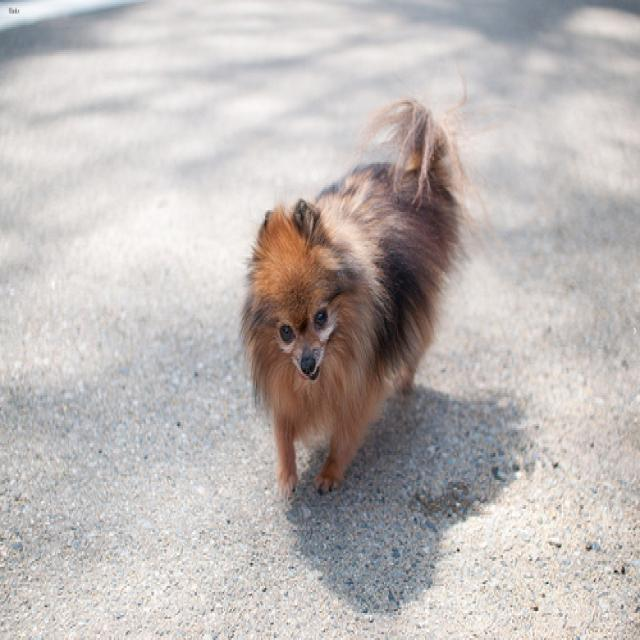dog-pomeranian: (232, 91, 472, 511)
